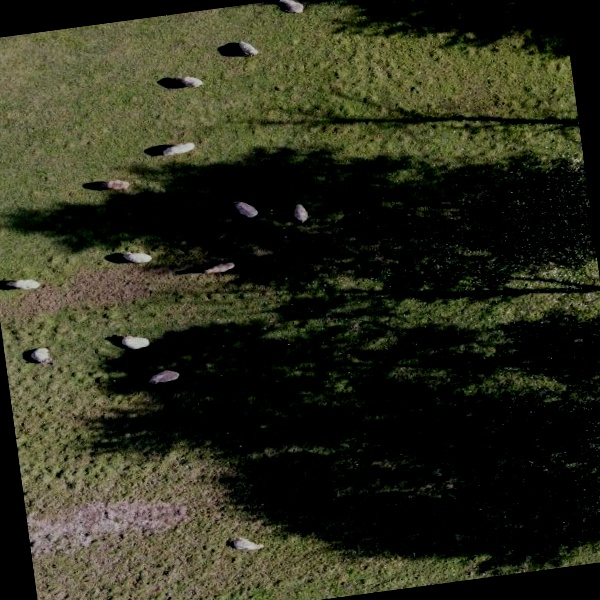sheep: (192, 256, 244, 284), (2, 273, 49, 302), (229, 532, 271, 561), (95, 171, 133, 203), (277, 200, 320, 228), (171, 71, 208, 99), (115, 245, 157, 269), (142, 366, 184, 389), (121, 327, 156, 354), (230, 32, 264, 59), (26, 345, 59, 372), (158, 138, 199, 159), (229, 198, 260, 223), (274, 0, 302, 15)
